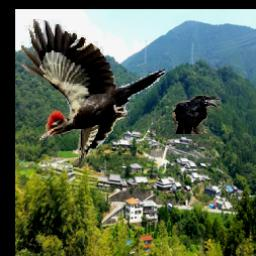Crow: (171, 96, 221, 135)
Woodpecker: (21, 20, 167, 168)
